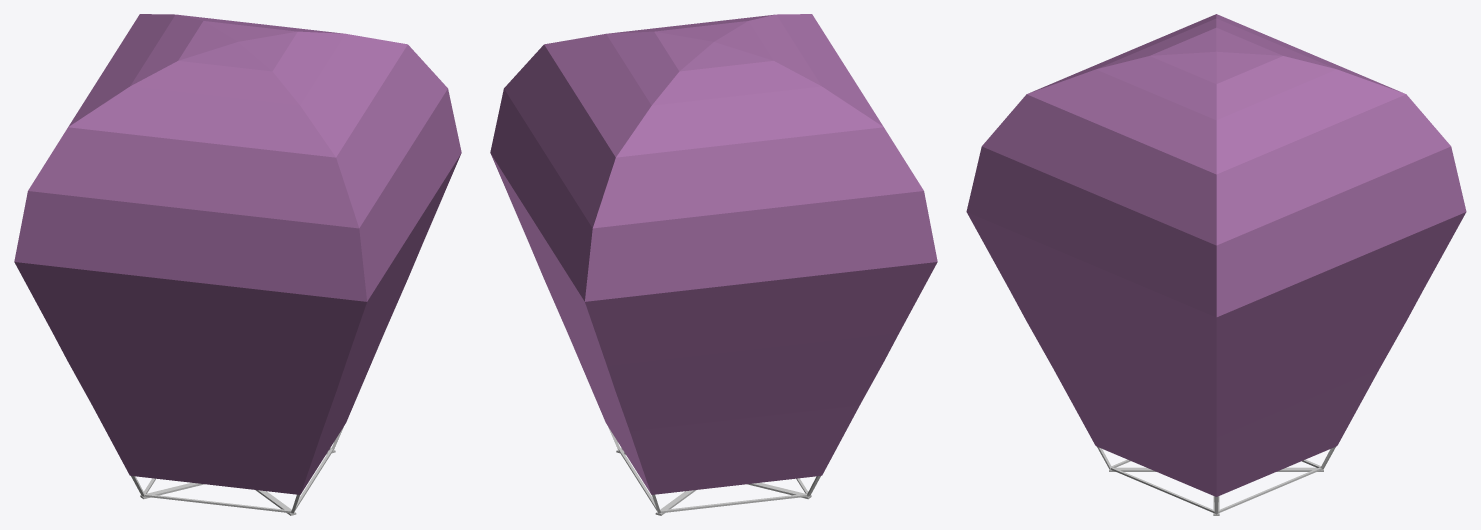
File: Lantern 1.fbx
3 renders of one model, left to right at view 1: azimuth 30°, elevation 25°; view 2: azimuth 150°, elevation 25°; view 3: azimuth 270°, elevation 25°, orthographic. The views are drawn at different scales.
Visible parts, largest first — view 1: Lantern; view 2: Lantern; view 3: Lantern.
Part boxes in pixels (bbox=[...]): Lantern: bbox=[14, 14, 461, 515]; Lantern: bbox=[490, 14, 937, 515]; Lantern: bbox=[966, 14, 1466, 515].
Bounding box in the file's own units: 16.79 × 15.52 × 16.79.
